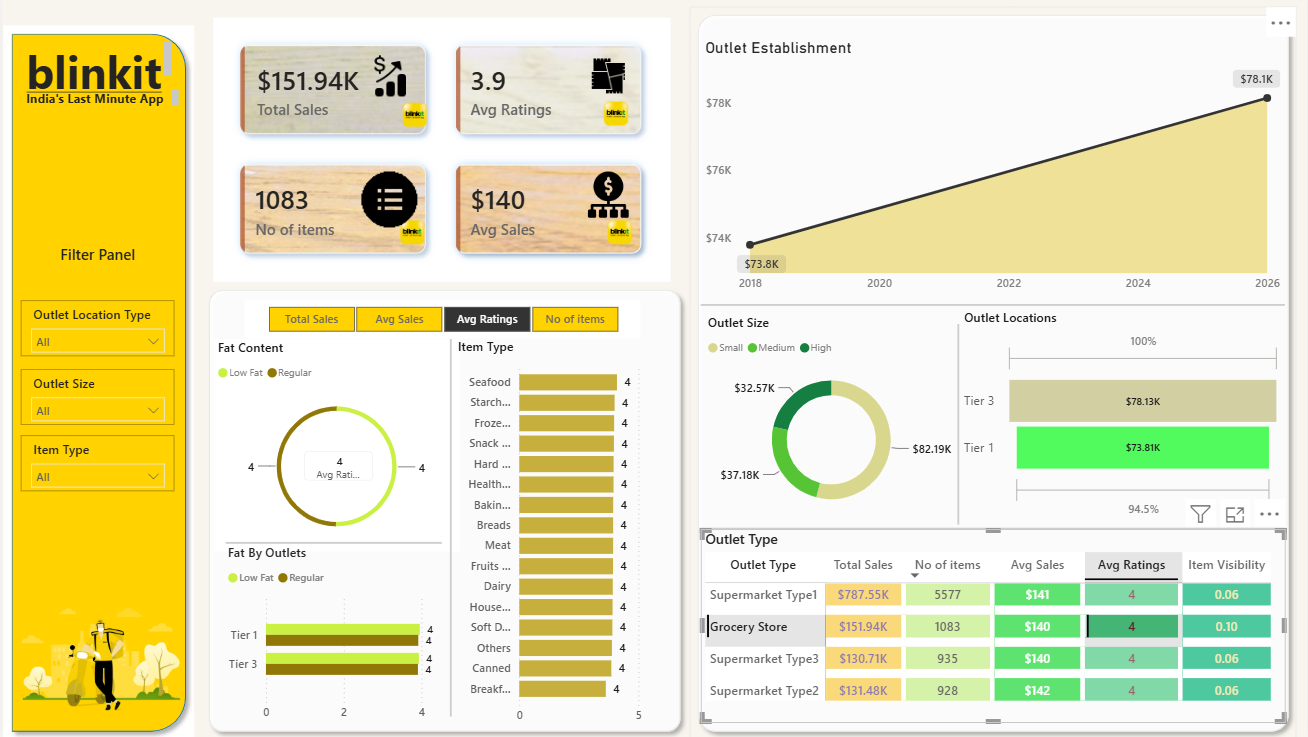

This screenshot's page, from the dashboard's own definition file:
{"tool":"powerbi","page":{"name":"Page 1","canvas":[1400,800],"ordinal":0},"visuals":[{"type":"shape","box":[1.7,33.3,205,766.7],"z":0},{"type":"textbox","box":[21.7,45,165,65],"z":1000},{"type":"textbox","box":[21.7,98.3,173.3,30],"z":2000},{"type":"group","id":"g1","title":"Group 1","box":[226.7,25,490,283.3],"z":3000},{"type":"cardVisual","fields":{"Data":["BlinkIT Grocery Data.Total Sales","BlinkIT Grocery Data.Avg Ratings","BlinkIT Grocery Data.No of items","BlinkIT Grocery Data.Avg Sales"]},"box":[226.7,25,490,283.3],"z":3000,"group":"g1"},{"type":"image","box":[615.4,64.5,69,48],"z":4000},{"type":"image","box":[387.7,65.8,57.9,46.2],"z":6000,"group":"g1"},{"type":"image","box":[624.4,190.6,51,49.5],"z":6000},{"type":"image","box":[426.2,114.1,33,31.5],"z":7000},{"type":"image","box":[423.2,240.1,33,31.5],"z":8000},{"type":"image","box":[642.4,240.1,40.5,31.5],"z":9000},{"type":"image","box":[642.4,112.6,33,31.5],"z":10000},{"type":"shape","box":[213.3,308.3,523.3,491.7],"z":11000},{"type":"donutChart","title":" Fat Content","fields":{"Y":["BlinkIT Grocery Data.Total Sales"],"Category":["BlinkIT Grocery Data.Item Fat Content"]},"box":[226.7,370,265,228.3],"z":12000},{"type":"slicer","fields":{"Values":["Metrics.Metrics"]},"box":[259.6,328.7,424.7,40.5],"z":13000},{"type":"cardVisual","fields":{"Data":["BlinkIT Grocery Data.Total Sales"]},"box":[306.7,473.3,108.3,66.7],"z":14000},{"type":"clusteredBarChart","title":"Fat By Outlets","fields":{"Y":["BlinkIT Grocery Data.Total Sales"],"Category":["BlinkIT Grocery Data.Outlet Location Type"],"Series":["BlinkIT Grocery Data.Item Fat Content"]},"box":[236.7,590,235,198.3],"z":15000},{"type":"shape","box":[240,578.3,231.7,21.7],"z":16000},{"type":"shape","box":[463.3,370,35,405],"z":17000},{"type":"barChart","title":"Item Type","fields":{"Y":["BlinkIT Grocery Data.Total Sales"],"Category":["BlinkIT Grocery Data.Item Type"]},"box":[483.3,368.3,233.3,423.3],"z":18000},{"type":"shape","box":[736.7,13.3,651.7,786.7],"z":19000},{"type":"lineChart","title":"Outlet Establishment  ","fields":{"Y":["BlinkIT Grocery Data.Total Sales"],"Category":["BlinkIT Grocery Data.Outlet Establishment Year"]},"box":[750,46.7,626.7,281.7],"z":20000},{"type":"shape","box":[750,568.3,626.7,10],"z":21000},{"type":"donutChart","title":"Outlet Size","fields":{"Y":["BlinkIT Grocery Data.Total Sales"],"Category":["BlinkIT Grocery Data.Outlet Size"]},"box":[751.7,343.3,275,225],"z":22000},{"type":"shape","box":[1008.3,353.3,35,215],"z":23000},{"type":"funnel","title":"Outlet Locations","fields":{"Y":["BlinkIT Grocery Data.Total Sales"],"Category":["BlinkIT Grocery Data.Outlet Location Type"]},"box":[1026.7,338.3,350,230],"z":24000},{"type":"shape","box":[750,328.3,626.7,10],"z":25000},{"type":"pivotTable","title":"Outlet Type","fields":{"Rows":["BlinkIT Grocery Data.Outlet Type"],"Values":["BlinkIT Grocery Data.Total Sales","BlinkIT Grocery Data.No of items","BlinkIT Grocery Data.Avg Sales","BlinkIT Grocery Data.Avg Ratings","Avg(BlinkIT Grocery Data.Item Visibility)"]},"box":[750,573.3,626.7,208.3],"z":26000},{"type":"slicer","fields":{"Values":["BlinkIT Grocery Data.Outlet Location Type"]},"box":[20,328.3,165,60],"z":27000},{"type":"slicer","fields":{"Values":["BlinkIT Grocery Data.Outlet Size"]},"box":[20,401.7,165,60],"z":28000},{"type":"slicer","fields":{"Values":["BlinkIT Grocery Data.Item Type"]},"box":[20,473.3,165,60],"z":29000},{"type":"textbox","box":[20,263.3,165,45],"z":30000},{"type":"image","box":[265,190,300,60],"z":31000},{"type":"image","box":[20,646.7,175,135],"z":32001}]}

Visuals, with their boxes in screenshot pixels (x1, y1, x2, y2), scaled from the page's 1400x800 canvas onto the 1308x737 screenshot:
shape: (2, 31, 193, 736)
textbox: (20, 41, 174, 101)
textbox: (20, 91, 182, 118)
"Group 1" group: (212, 23, 670, 284)
cardVisual - BlinkIT Grocery Data.Total Sales x BlinkIT Grocery Data.Avg Ratings: (212, 23, 670, 284)
image: (575, 59, 639, 104)
image: (362, 61, 416, 103)
image: (583, 176, 631, 221)
image: (398, 105, 429, 134)
image: (395, 221, 426, 250)
image: (600, 221, 638, 250)
image: (600, 104, 631, 133)
shape: (199, 284, 688, 736)
" Fat Content" donutChart: (212, 341, 459, 551)
slicer - Metrics.Metrics: (243, 303, 639, 340)
cardVisual - BlinkIT Grocery Data.Total Sales: (287, 436, 388, 497)
"Fat By Outlets" clusteredBarChart: (221, 544, 441, 726)
shape: (224, 533, 441, 553)
shape: (433, 341, 466, 714)
"Item Type" barChart: (452, 339, 670, 729)
shape: (688, 12, 1297, 736)
"Outlet Establishment  " lineChart: (701, 43, 1286, 303)
shape: (701, 524, 1286, 533)
"Outlet Size" donutChart: (702, 316, 959, 524)
shape: (942, 325, 975, 524)
"Outlet Locations" funnel: (959, 312, 1286, 524)
shape: (701, 302, 1286, 312)
"Outlet Type" pivotTable: (701, 528, 1286, 720)
slicer - BlinkIT Grocery Data.Outlet Location Type: (19, 302, 173, 358)
slicer - BlinkIT Grocery Data.Outlet Size: (19, 370, 173, 425)
slicer - BlinkIT Grocery Data.Item Type: (19, 436, 173, 491)
textbox: (19, 243, 173, 284)
image: (248, 175, 528, 230)
image: (19, 596, 182, 720)
